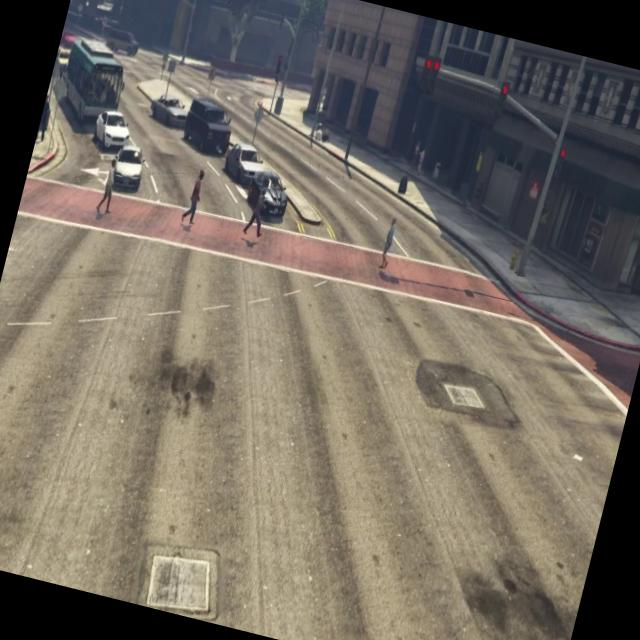Red-Signal: (408, 44, 449, 119), (487, 72, 517, 132), (547, 138, 573, 190)
